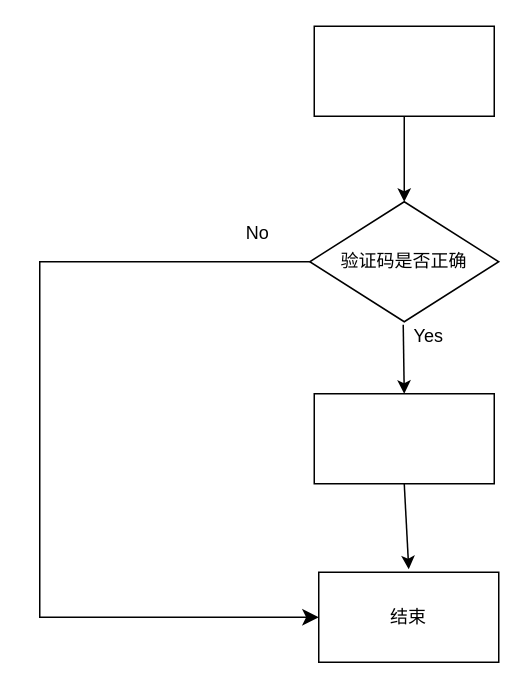
The diagram is 525 pixels wide and 689 high, and some of its shapes have lost their labels. The shapes that lost their labels are listed below. From the top down, each one's centre as x and y in pixels, then its label:
the point at 403,70: 输入验证码
the point at 403,438: 生成Token
